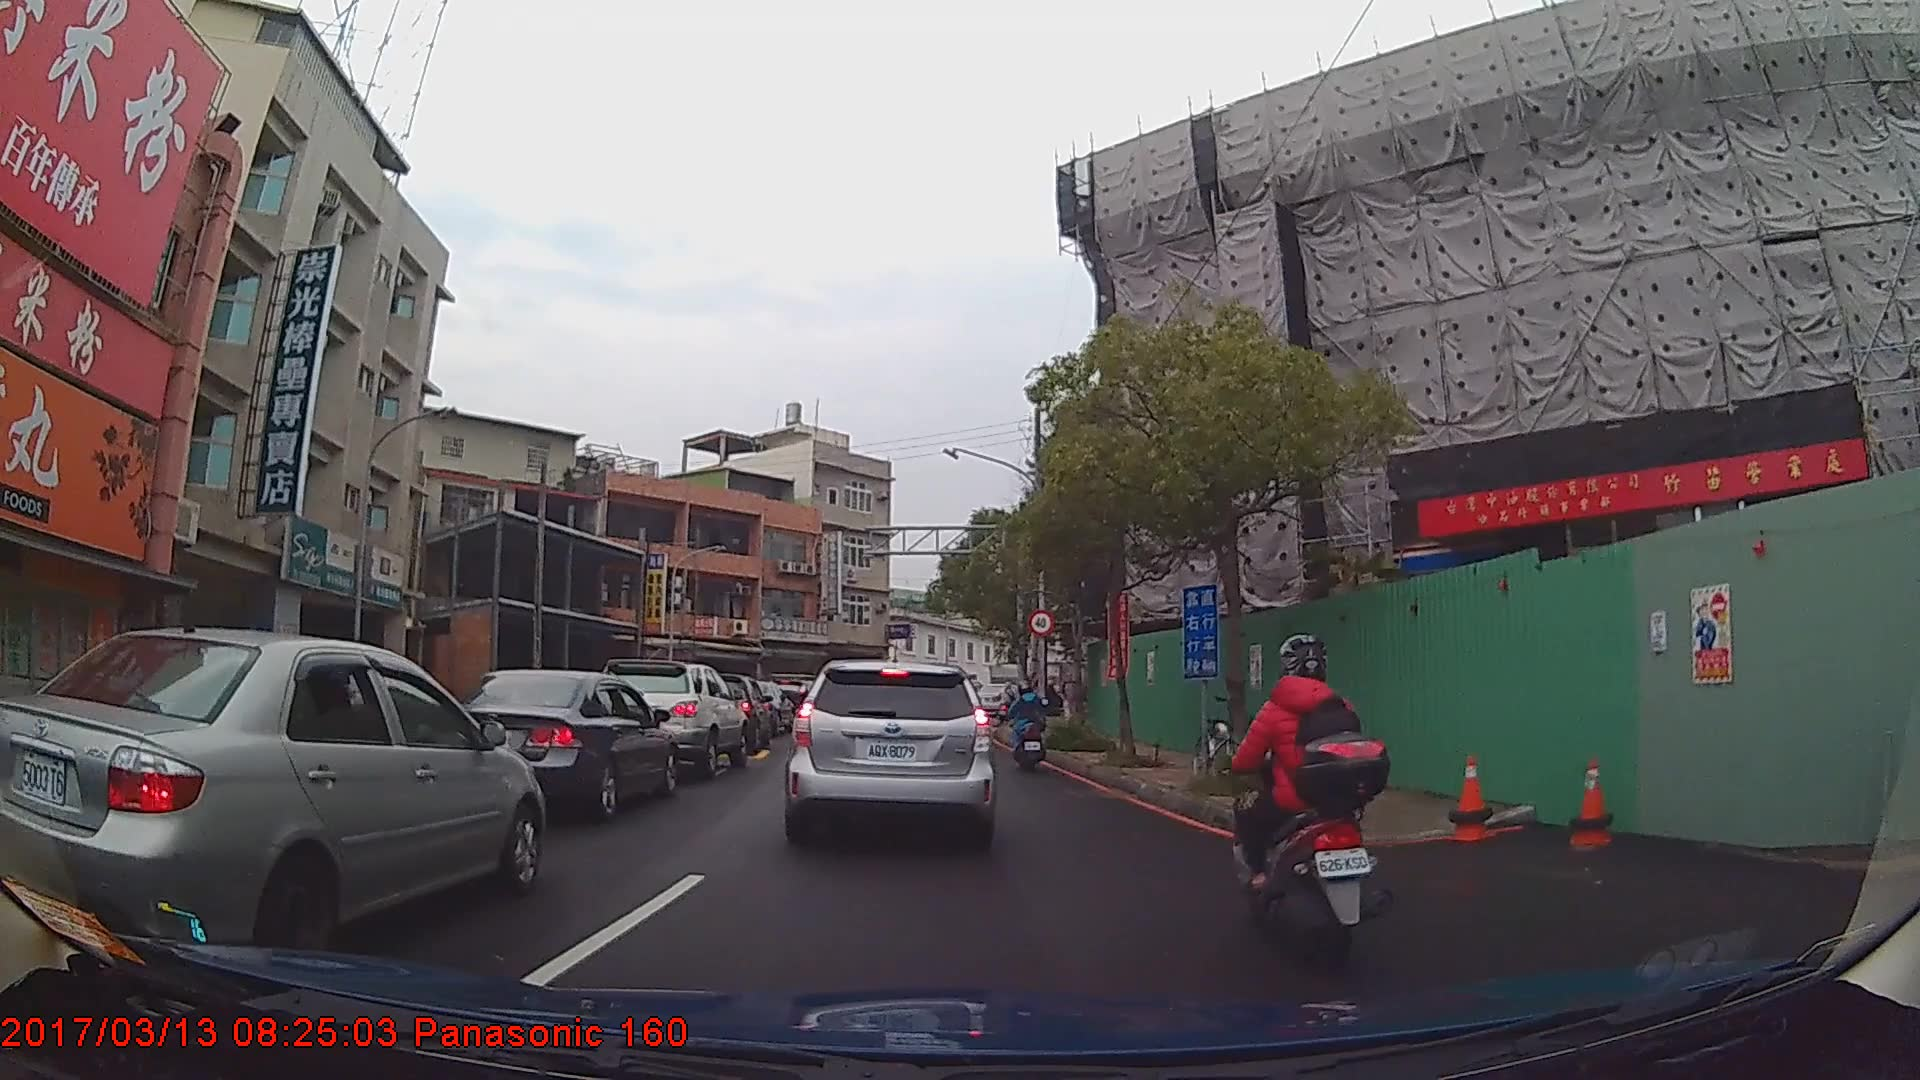rider: (1221, 633, 1408, 970), (1004, 682, 1050, 777)
vehicle: (0, 626, 543, 971), (781, 660, 997, 851), (424, 670, 678, 824), (596, 656, 748, 778)
